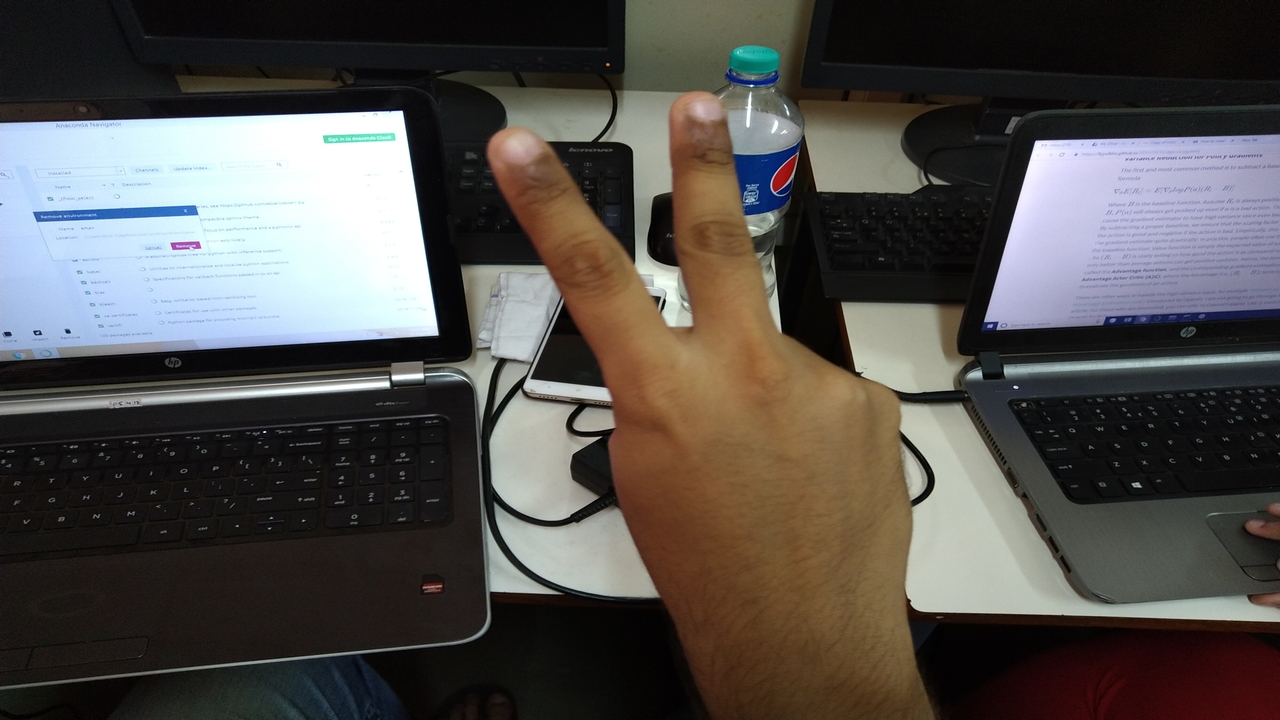fingertip: (486, 122, 548, 184), (664, 88, 730, 144)
